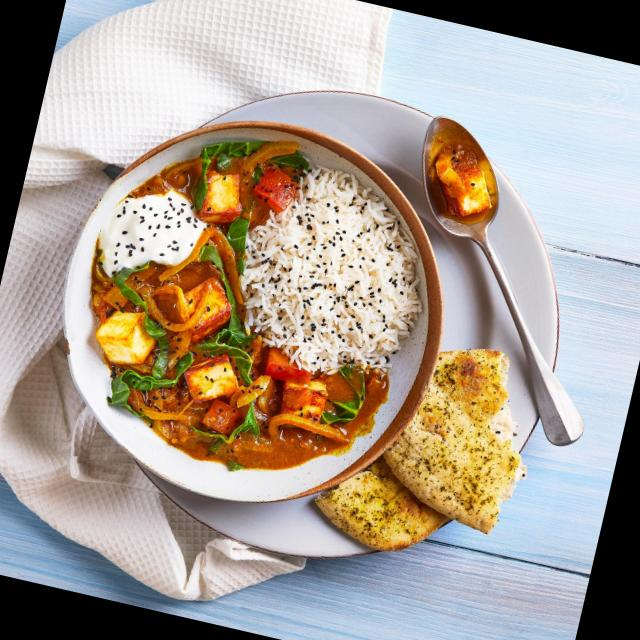rice: (223, 166, 462, 382)
